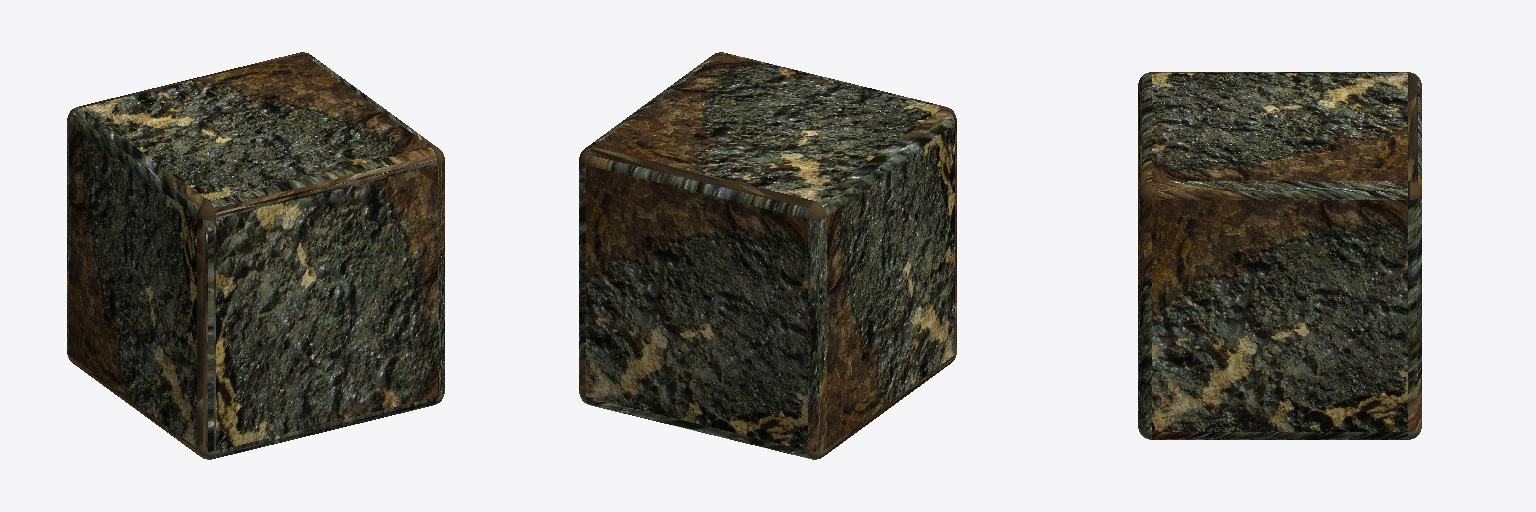
3 renders of one model, left to right at view 1: azimuth 30°, elevation 25°; view 2: azimuth 150°, elevation 25°; view 3: azimuth 270°, elevation 25°, orthographic.
Visible parts, largest first — view 1: Cube; view 2: Cube; view 3: Cube.
Part boxes in pixels (x1,y1,x2,y2): Cube: (67,52,444,459); Cube: (579,52,956,459); Cube: (1138,72,1421,439).
Bounding box in the file's own units: 2 × 2 × 2.
1 materials, 1 textured.